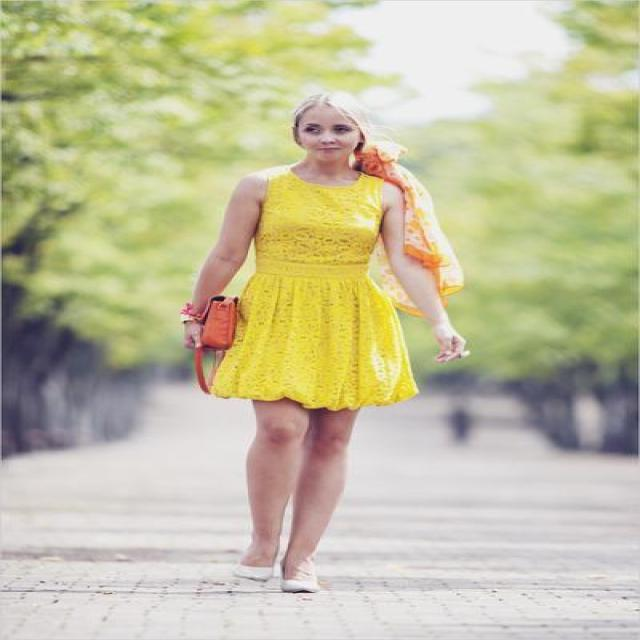bag: (186, 309, 247, 366)
dress: (211, 170, 418, 410)
shoe: (242, 555, 314, 594)
